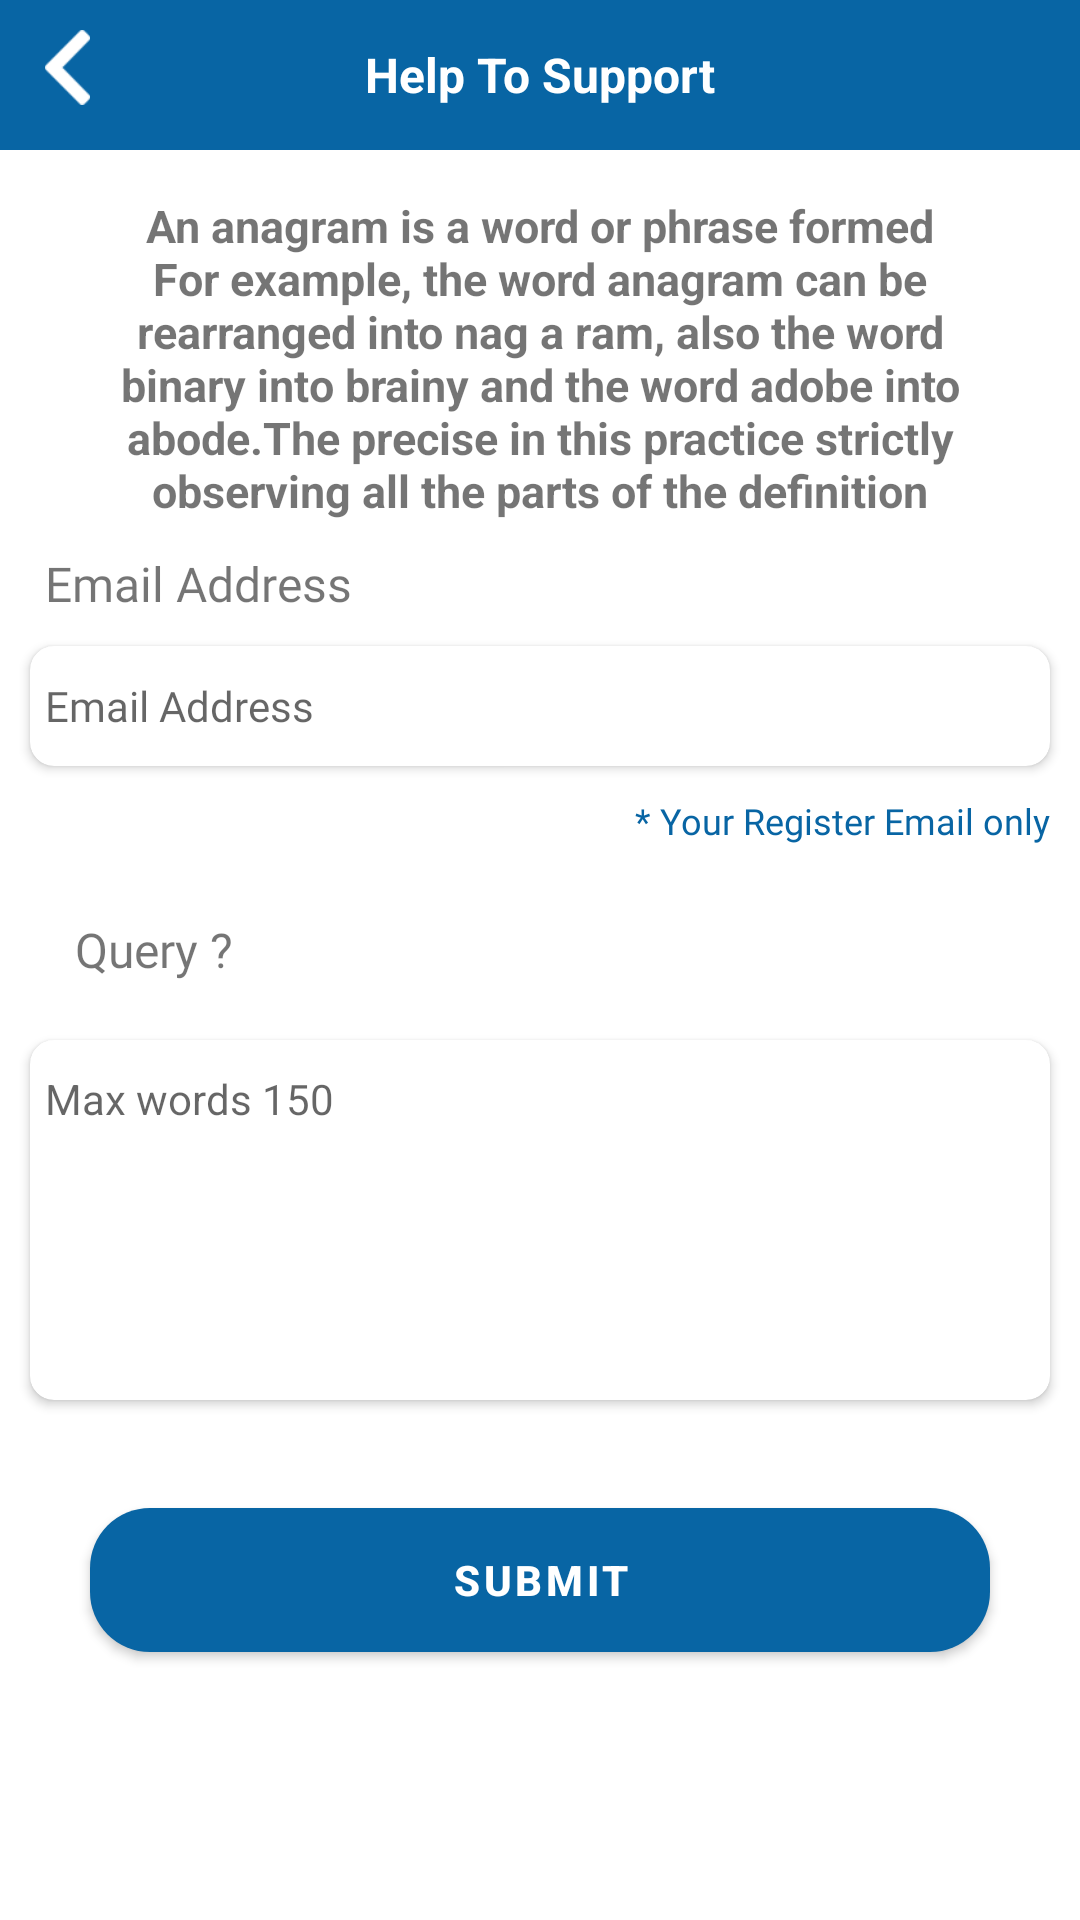

Screen size 1080*1920. Icon name, then its center in pixels as (x=x, y=y):
back: (x=67, y=67)
